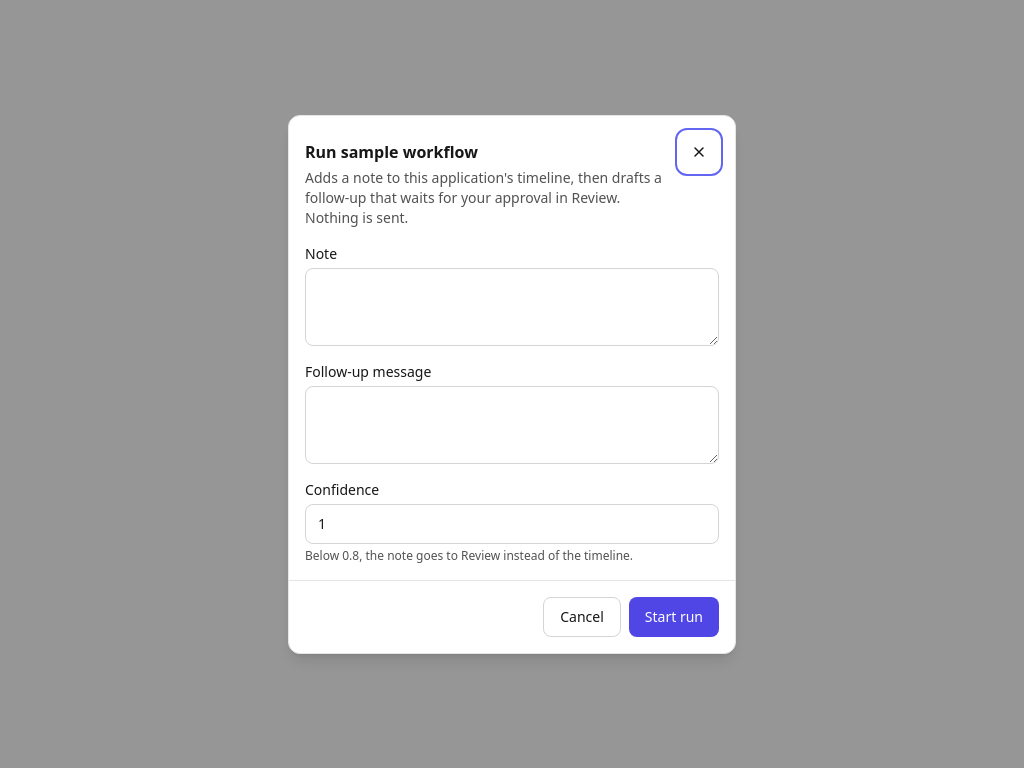
TidyDialog › shows a 422 for confidence under that field and stays open
Step 1. Type "n" into the text box labelled "Note" → [512, 306], box [305,268,719,346]
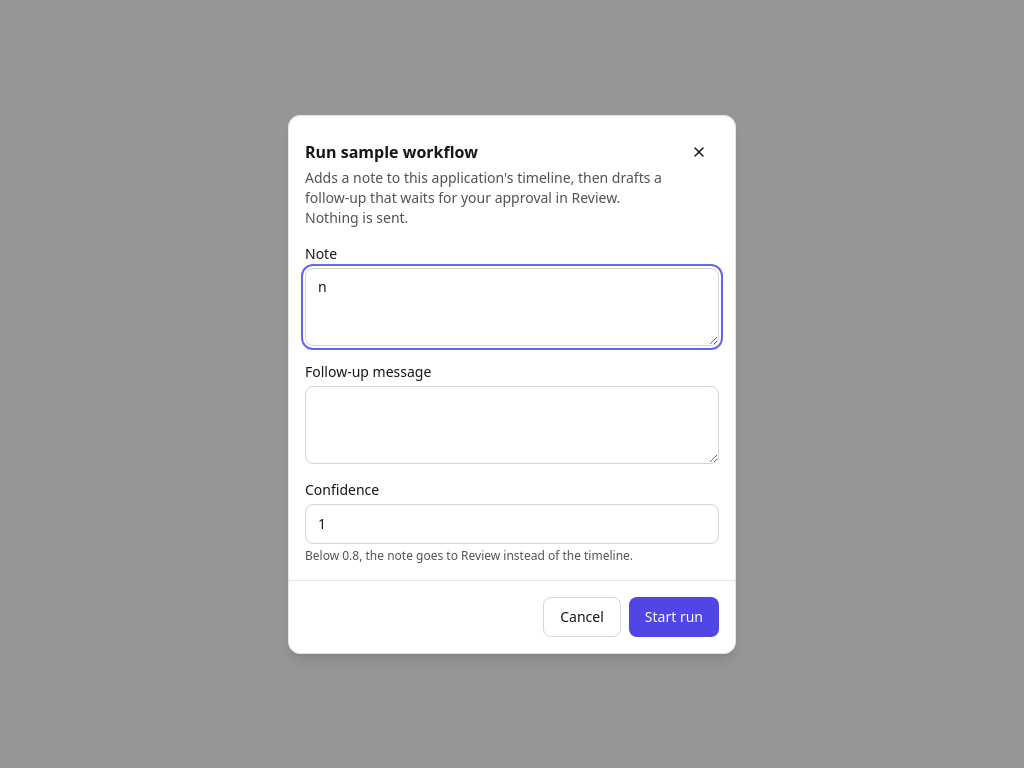
Step 2. Type "m" into the text box labelled "Follow-up message" → [512, 424], box [305,386,719,464]
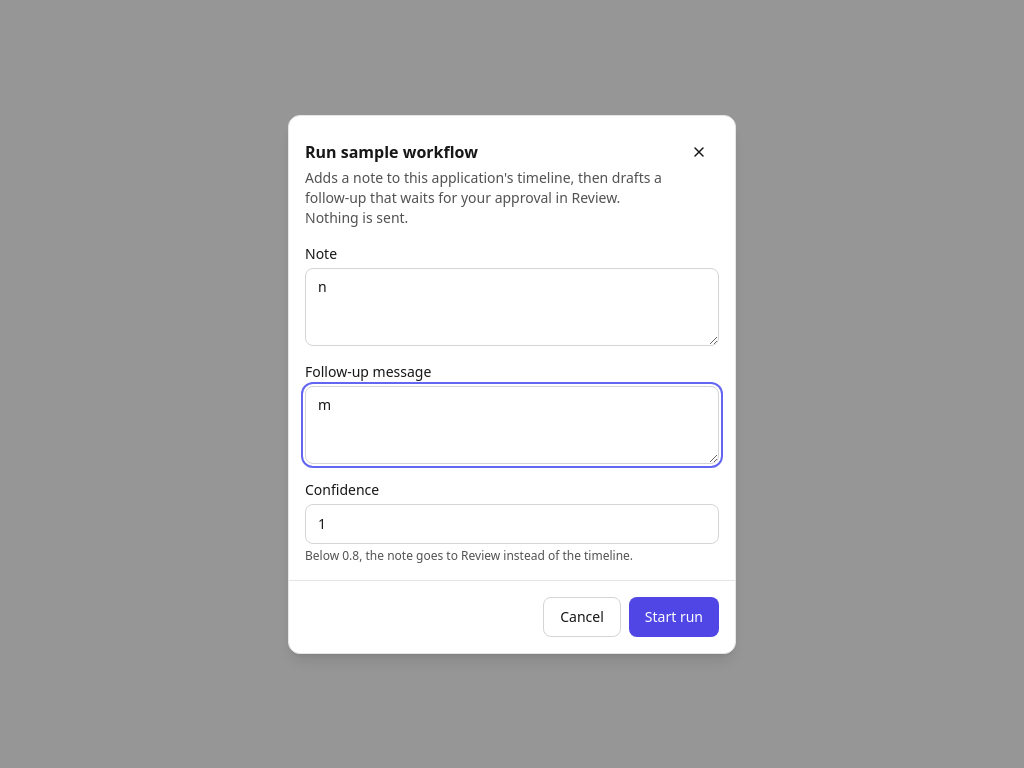
Step 3. Click the button "Start run" → [674, 616], box [629,596,719,636]
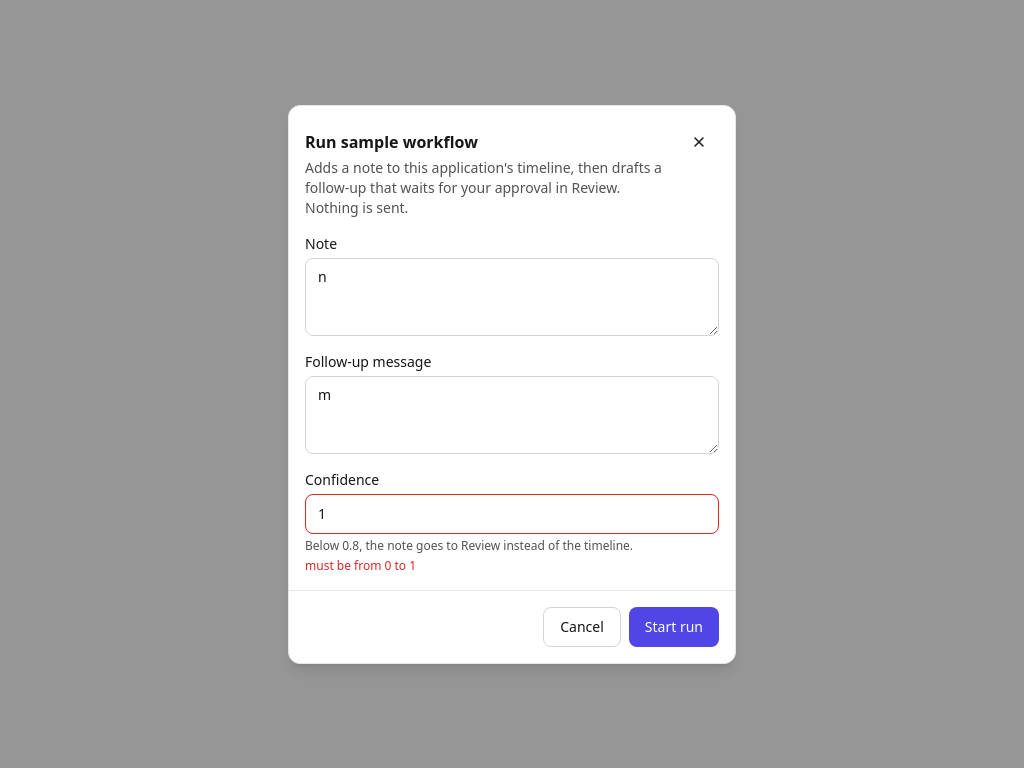
Expected: the dialog is shown, [288,104,736,664]
Result: the text "must be from 0 to 1" is shown at [305,556,416,574]
